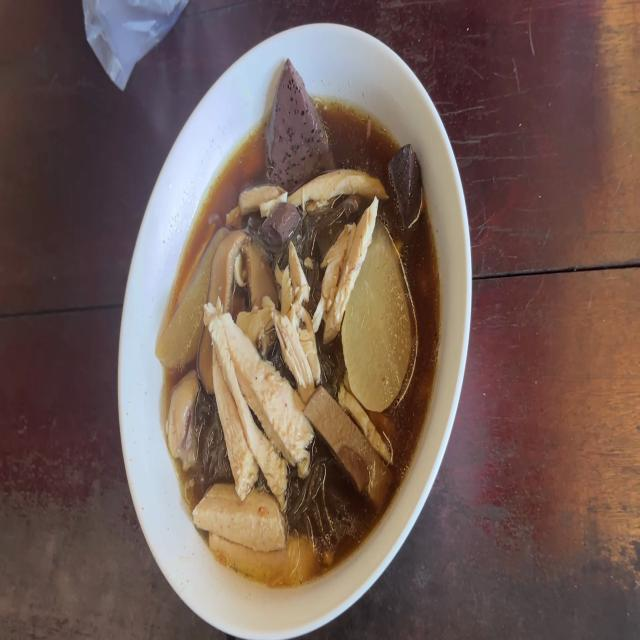boiled_chicken_blood_jelly: (266, 59, 334, 176), (394, 140, 420, 225), (262, 208, 296, 250)
chicken_shredded: (205, 310, 302, 490), (310, 198, 380, 338), (190, 485, 282, 546), (279, 239, 314, 384), (166, 369, 204, 465), (289, 171, 392, 204), (243, 188, 283, 209)
daikon_radish: (346, 241, 404, 396), (161, 230, 217, 372)
noodle: (166, 113, 436, 586)
